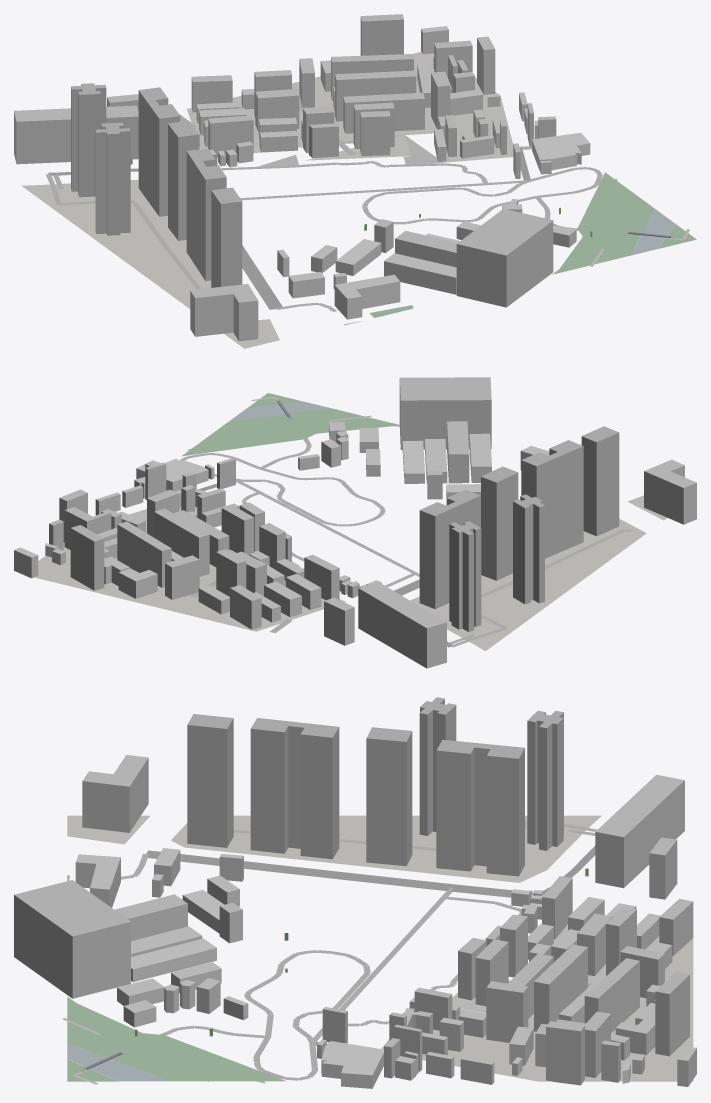
The picture shows the model from 3 angles, top to bottom: view 1: azimuth 30°, elevation 25°; view 2: azimuth 150°, elevation 25°; view 3: azimuth 270°, elevation 25°; orthographic projection. The views are drawn at different scales.
Size of the model in its own units: 540 by 111 by 545.
